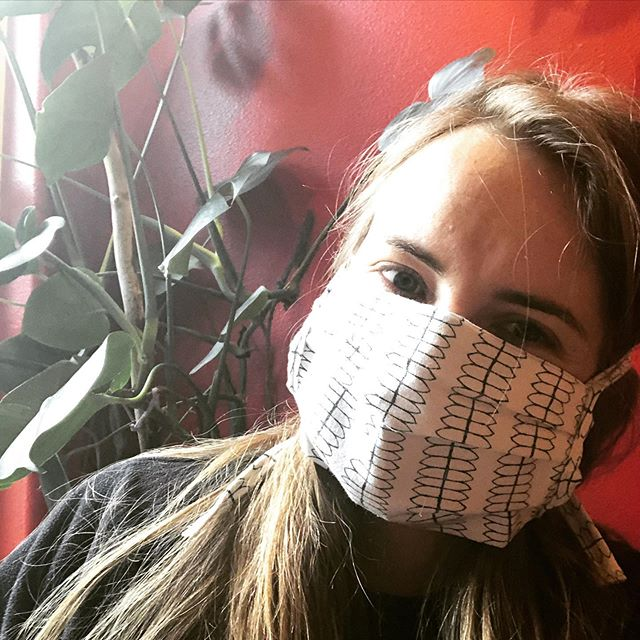homemade: (289, 279, 592, 534)
